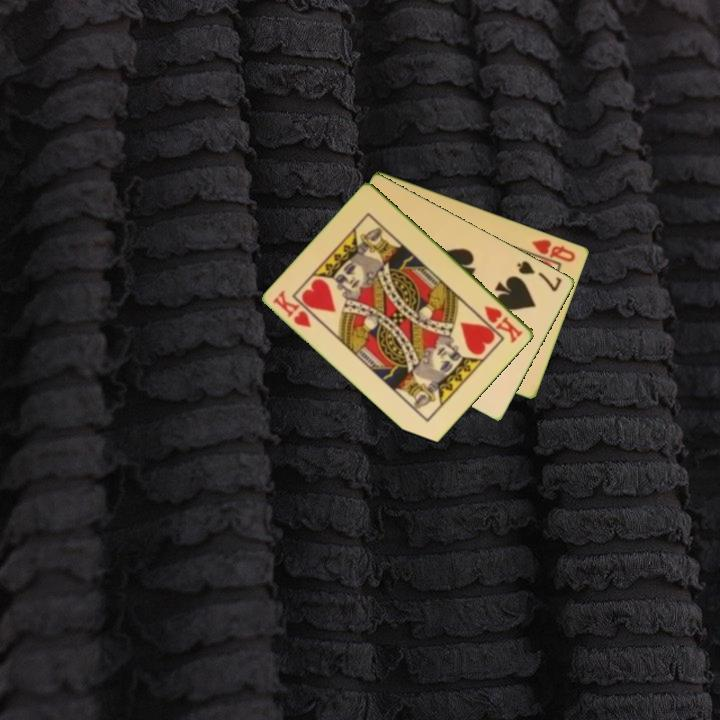7s: (513, 257, 565, 294)
Kh: (269, 287, 315, 331), (481, 302, 526, 346)
Qh: (529, 235, 579, 265)
